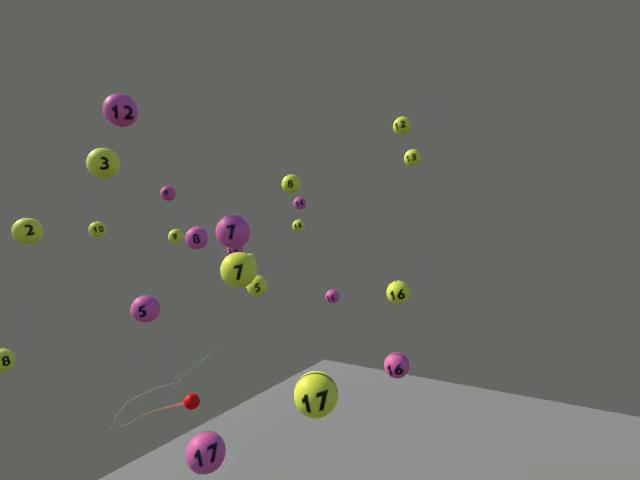ball_02_yellow: (10, 217, 42, 244)
ball_03_yellow: (86, 147, 119, 178)
ball_05_pink: (130, 294, 159, 322)
ball_05_yellow: (245, 274, 267, 296)
ball_07_pink: (215, 214, 250, 248)
ball_07_yellow: (219, 251, 256, 288)
ball_08_pink: (184, 226, 207, 248)
ball_08_yellow: (281, 173, 300, 192)
ball_09_pink: (159, 185, 175, 201)
ball_09_yellow: (167, 228, 182, 244)
ball_10_yellow: (88, 220, 106, 236)
ball_12_pink: (102, 93, 137, 127)
ball_12_yellow: (392, 115, 410, 133)
ball_13_yellow: (403, 148, 420, 165)
ball_14_pink: (292, 196, 307, 209)
ball_14_yellow: (291, 219, 305, 232)
ball_15_pink: (324, 289, 339, 303)
ball_16_pink: (383, 351, 409, 378)
ball_16_yellow: (385, 279, 409, 304)
ball_17_pink: (185, 431, 226, 474)
ball_17_yellow: (293, 370, 338, 418)
ball_unknown: (0, 347, 15, 372), (227, 245, 243, 253)
user_cursor: (183, 392, 200, 410)
